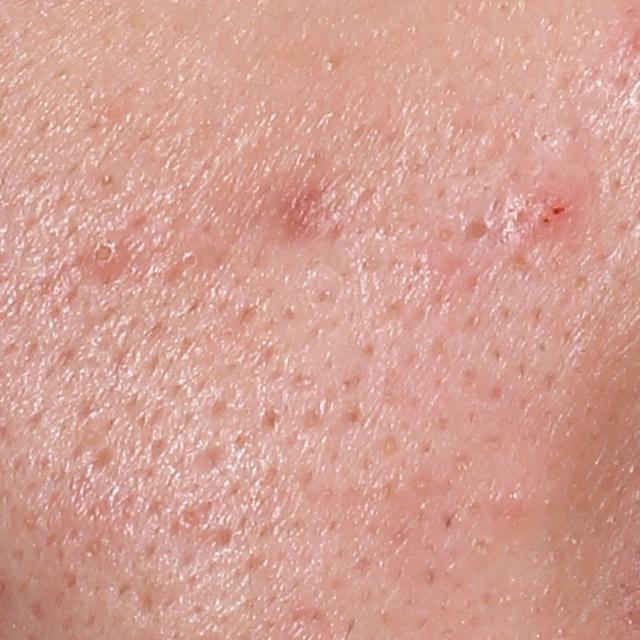comedo: (80, 232, 125, 280), (454, 211, 497, 255)
